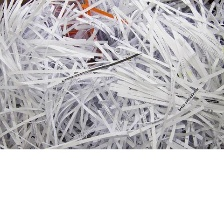news_paper: (0, 0, 224, 150)
